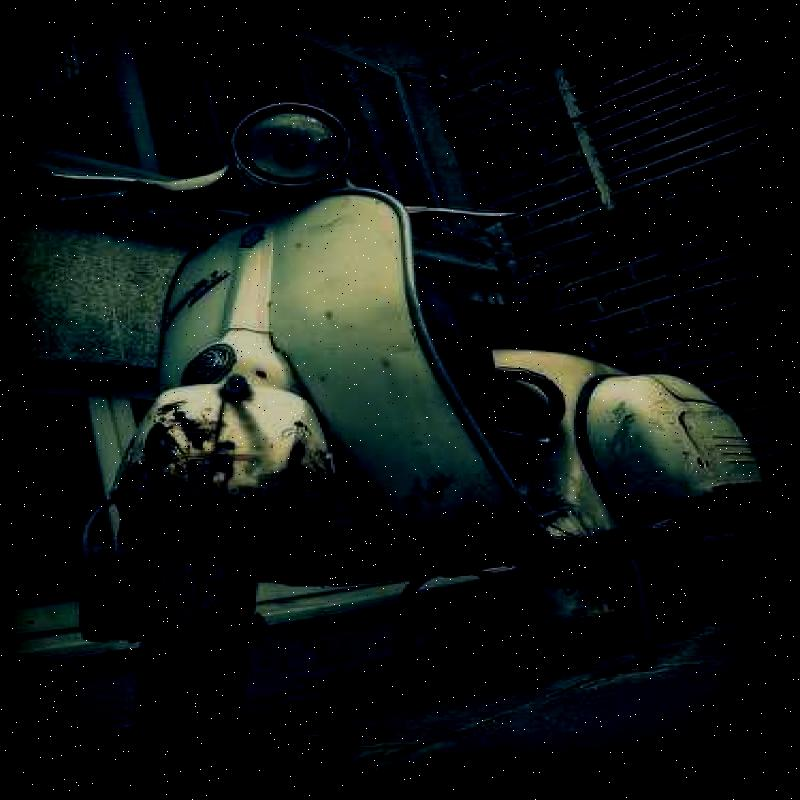bike: (64, 96, 762, 686)
